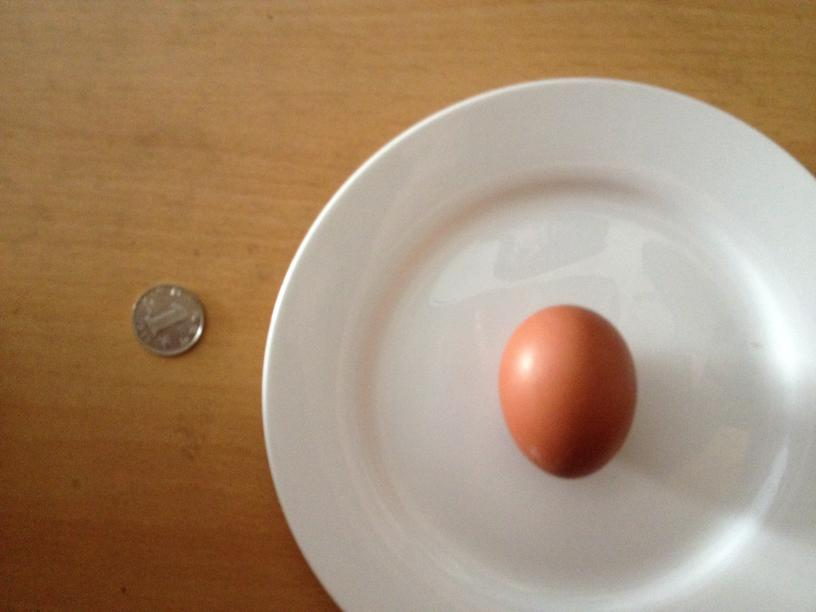coin: (131, 282, 205, 355)
egg: (505, 301, 636, 481)
